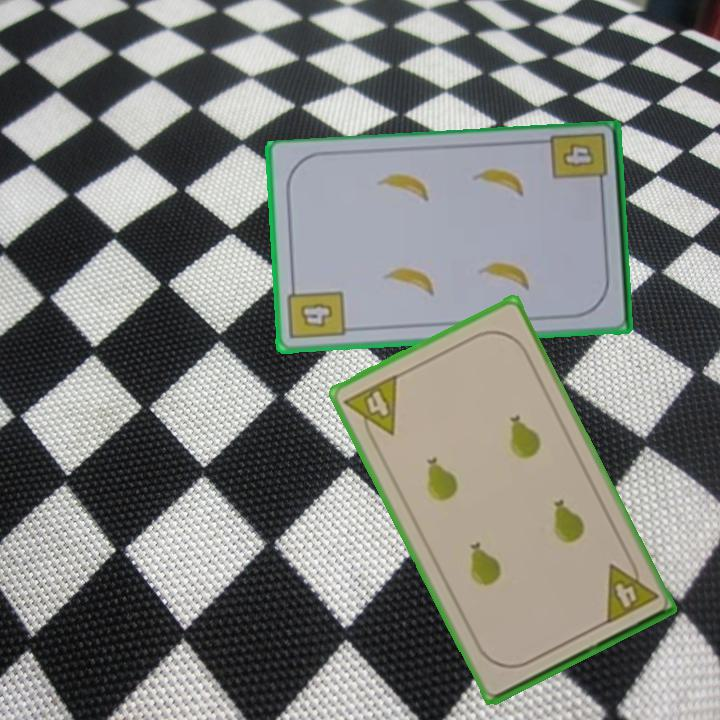4b: (548, 130, 611, 195), (285, 280, 348, 342)
4p: (340, 370, 401, 447), (601, 553, 661, 627)
